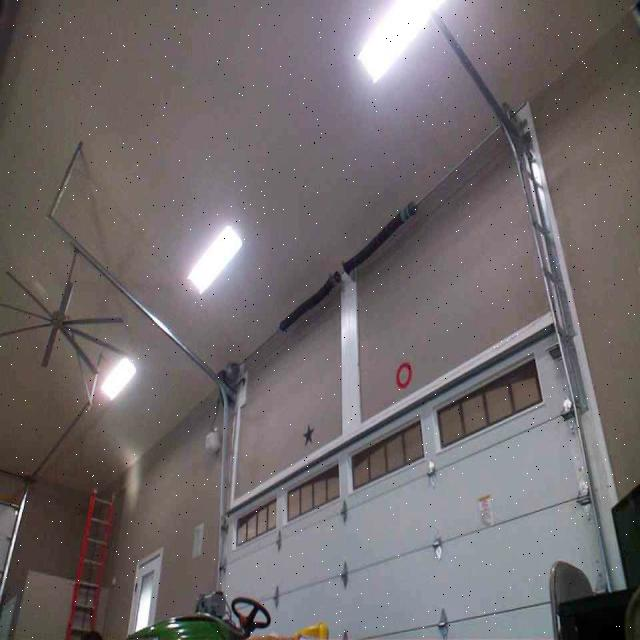ring_red: (394, 360, 412, 389)
star_black: (303, 422, 315, 446)
